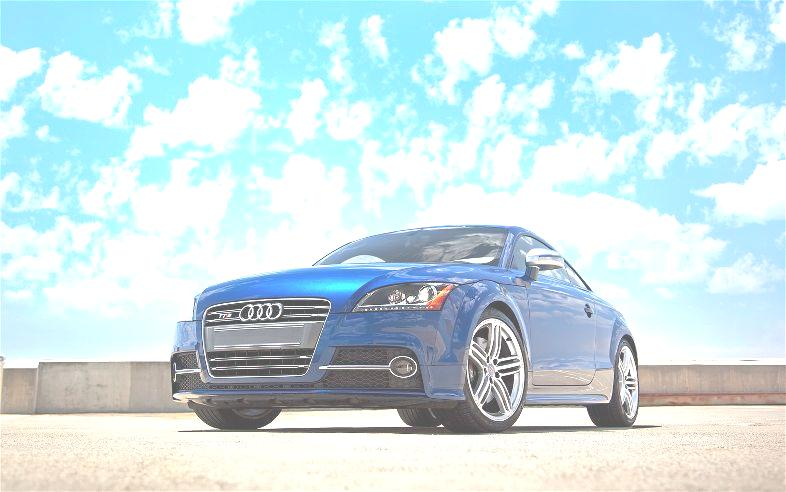Audi: (235, 299, 289, 326)
